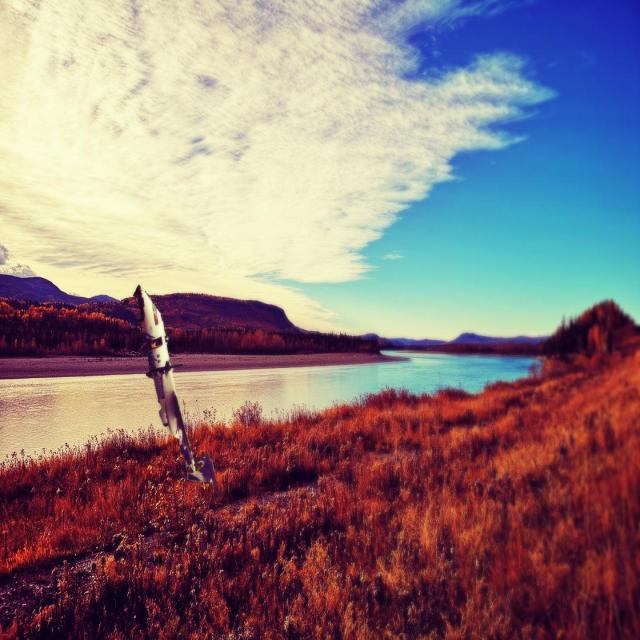airplane: (132, 283, 220, 497)
